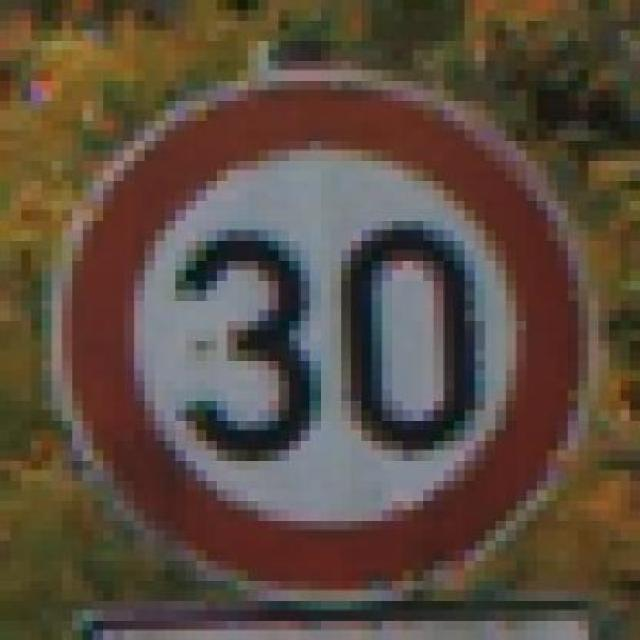Speed Limit 30 KMPh: (21, 50, 619, 610)
